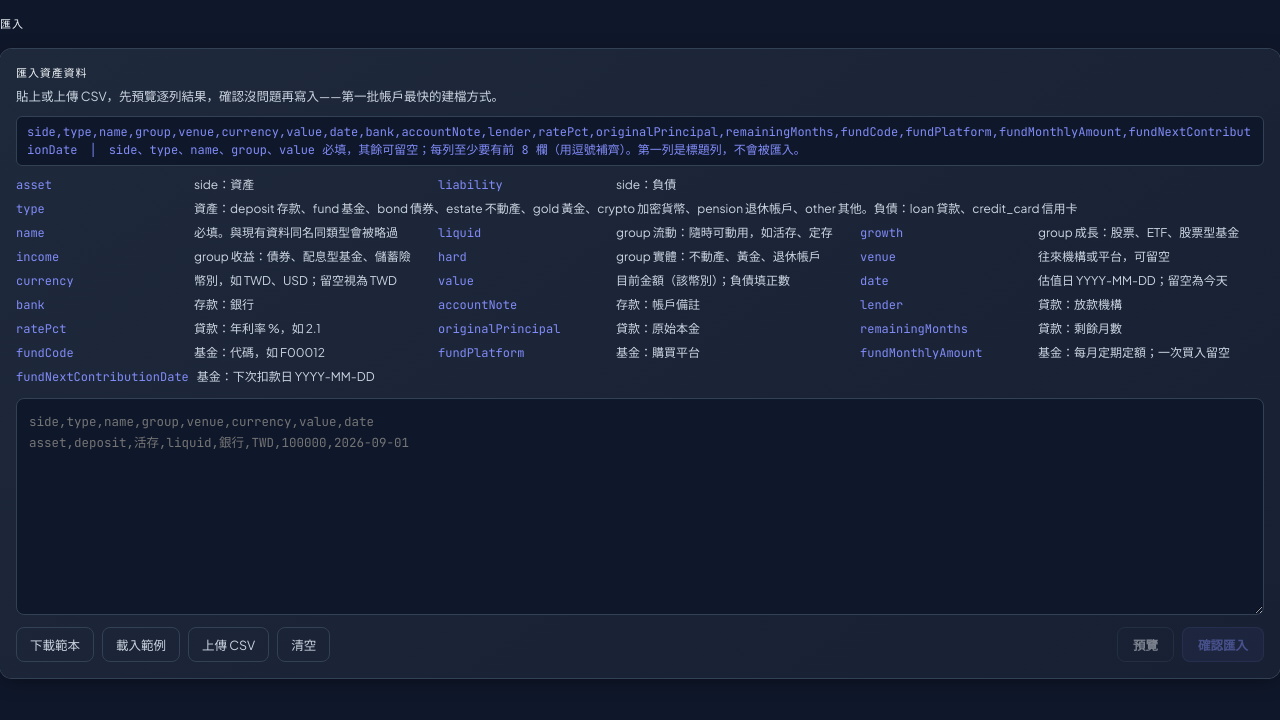
Test case: the row-by-row result › shows another failure's message
Replace the text in the text box with "csv text" at (640, 506), box [16,398,1264,615]
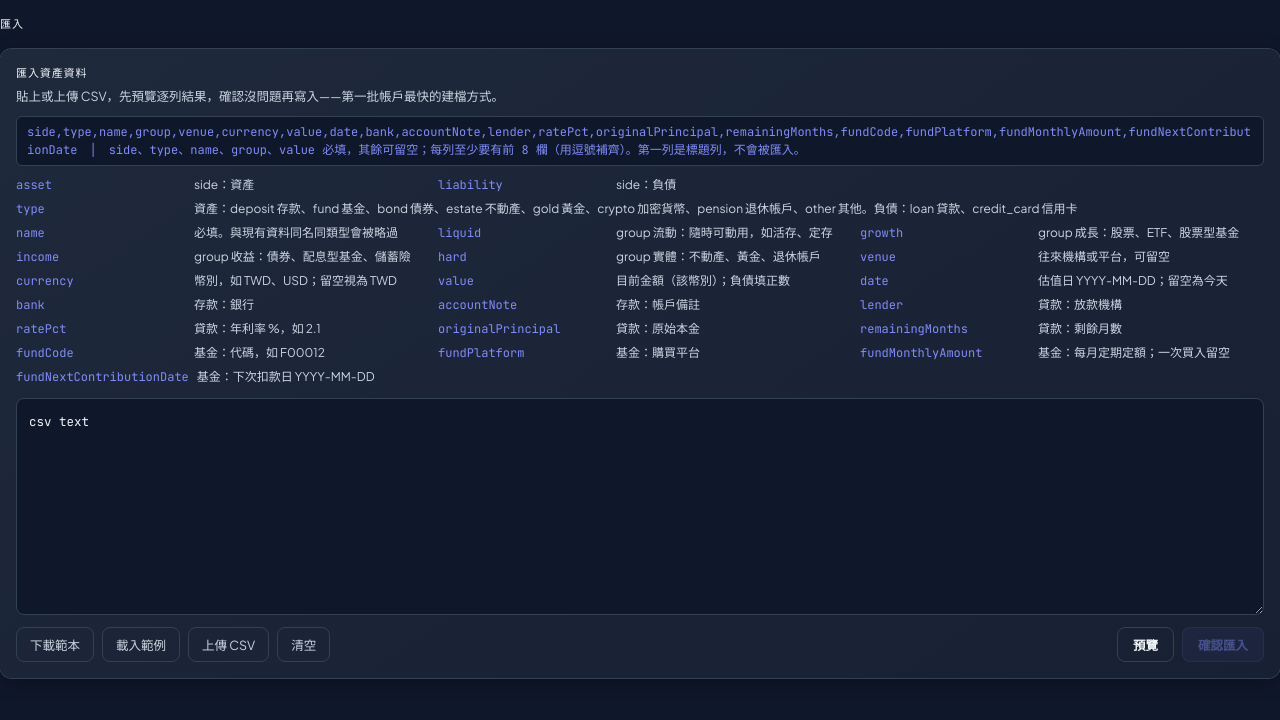
Click the button "預覽" at (1146, 644), box [1117,627,1174,662]
(page scrolled)
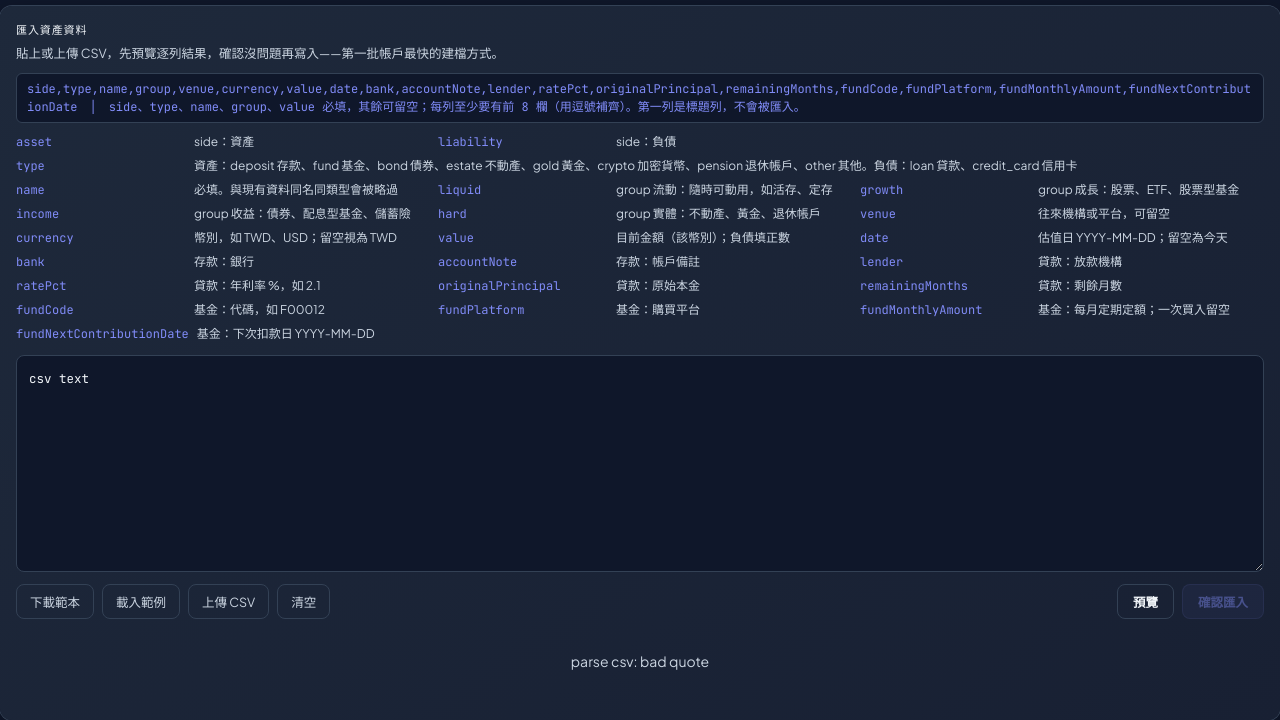
Expected: the text "parse csv: bad quote" is shown, [571,652,709,670]
